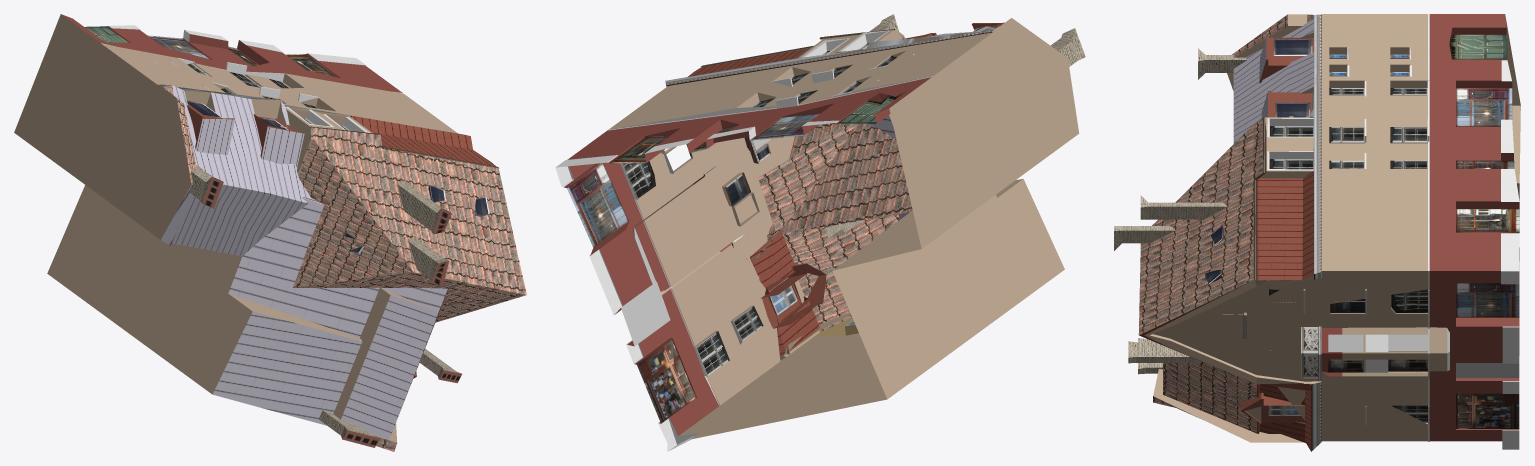
File: Vene_7-origo.obj
3 renders of one model, left to right at view 1: azimuth 30°, elevation 25°; view 2: azimuth 150°, elevation 25°; view 3: azimuth 270°, elevation 25°, orthographic. The views are drawn at different scales.
Parts seen in each view (by area): view 1: polySurface3; view 2: polySurface3; view 3: polySurface3.
Boxes of the visible parts, box(x1,y1,x2,y2) form: polySurface3: box(14, 14, 526, 451); polySurface3: box(555, 14, 1085, 451); polySurface3: box(1114, 14, 1520, 451).
Size of the model in its own units: 22.06 by 22 by 23.6.
